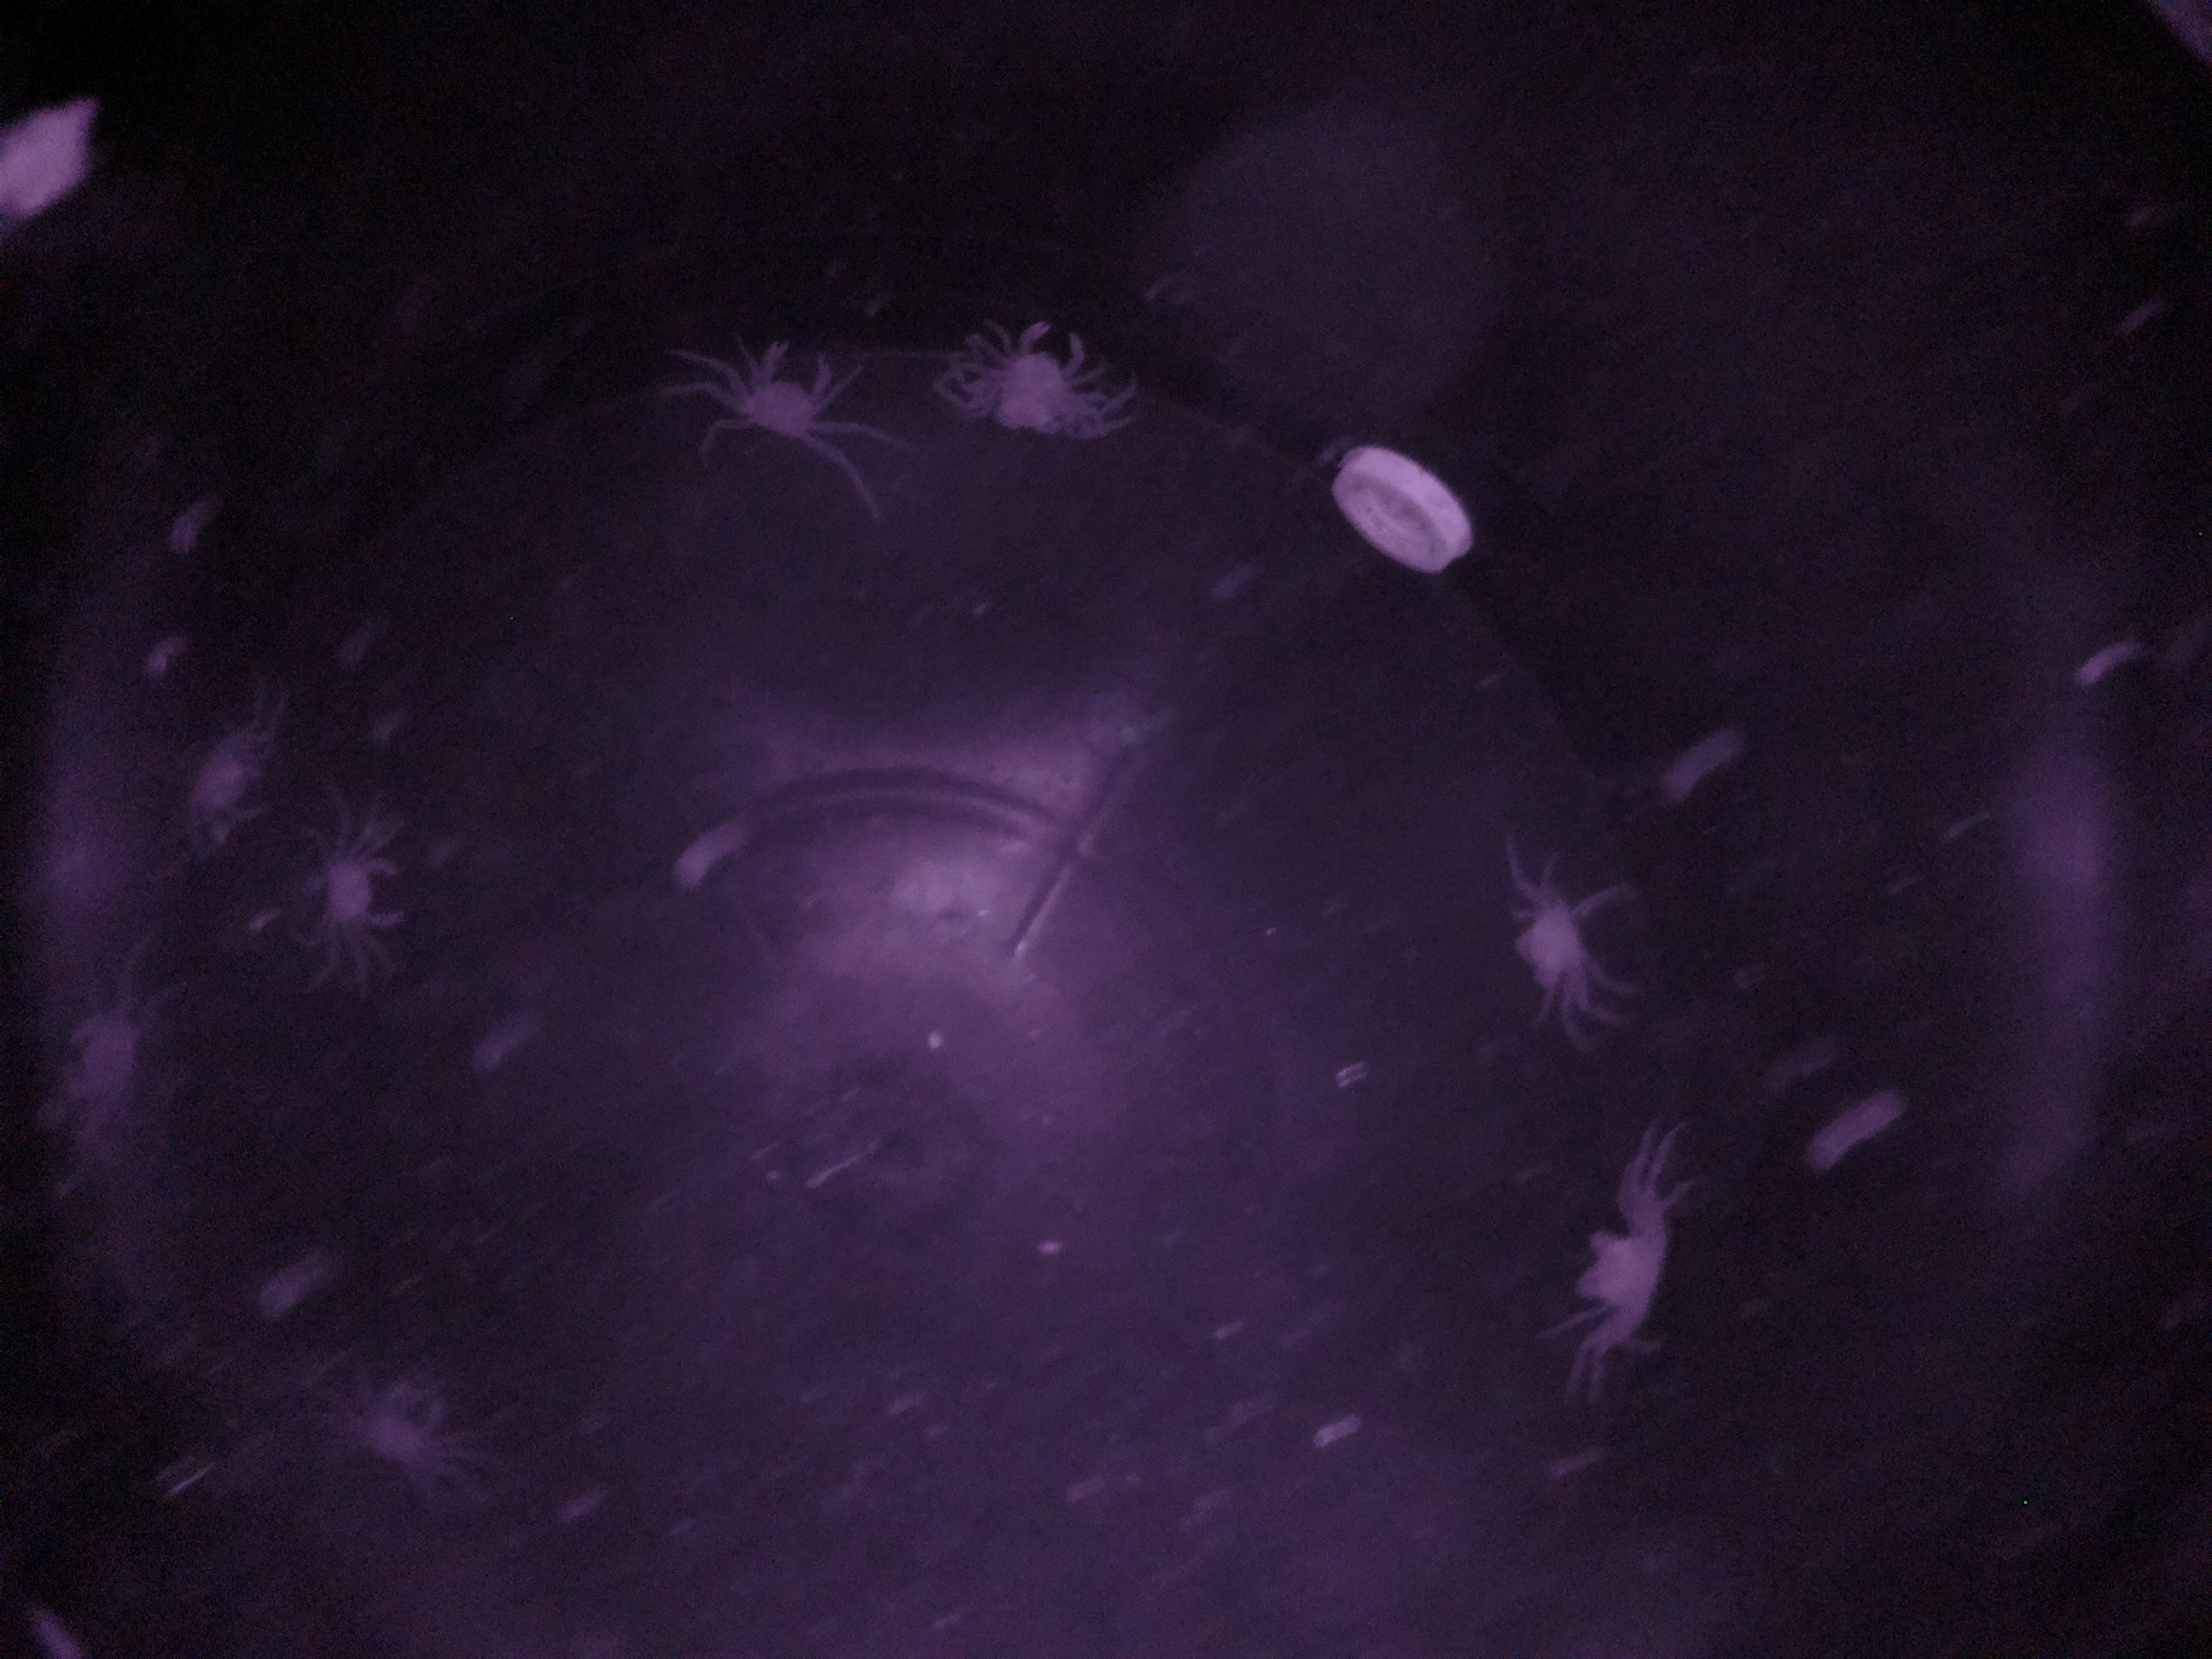Crab: (718, 307, 855, 474)
